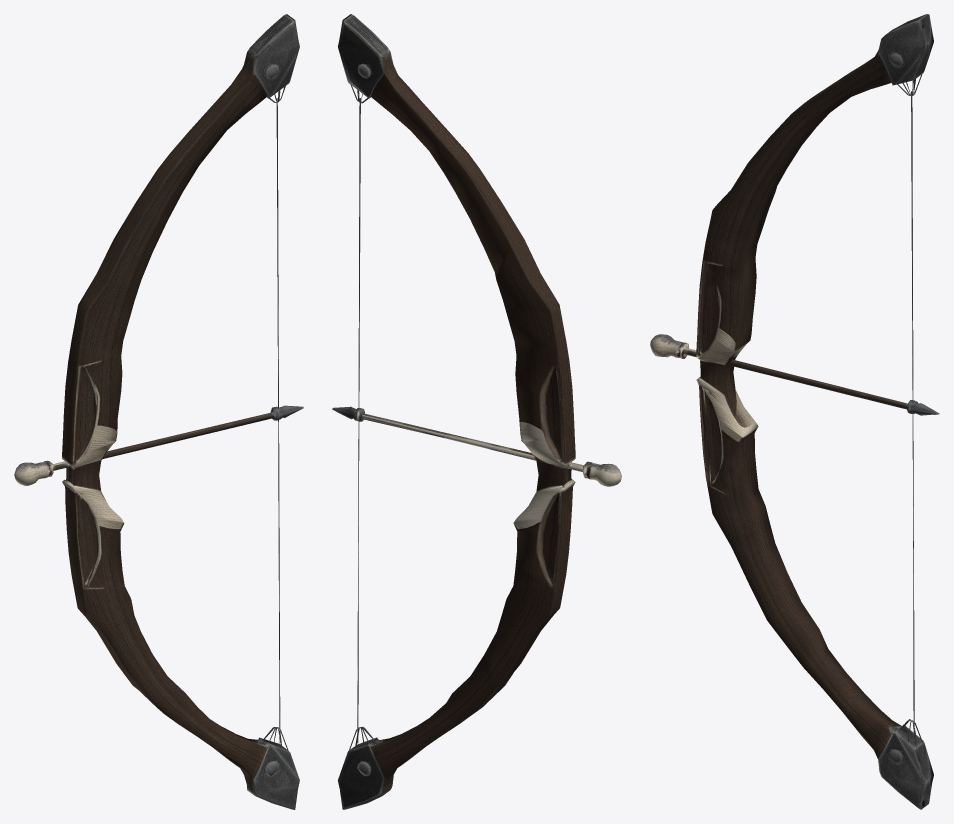
File: bow_meshy.glb
3 views of the same model, side by side, from view 1: azimuth 30°, elevation 25°; view 2: azimuth 150°, elevation 25°; view 3: azimuth 330°, elevation 25° (orthographic).
Bounding box in the file's own units: 0.3638 × 0.9517 × 0.0356.
1 material, 1 textured.
